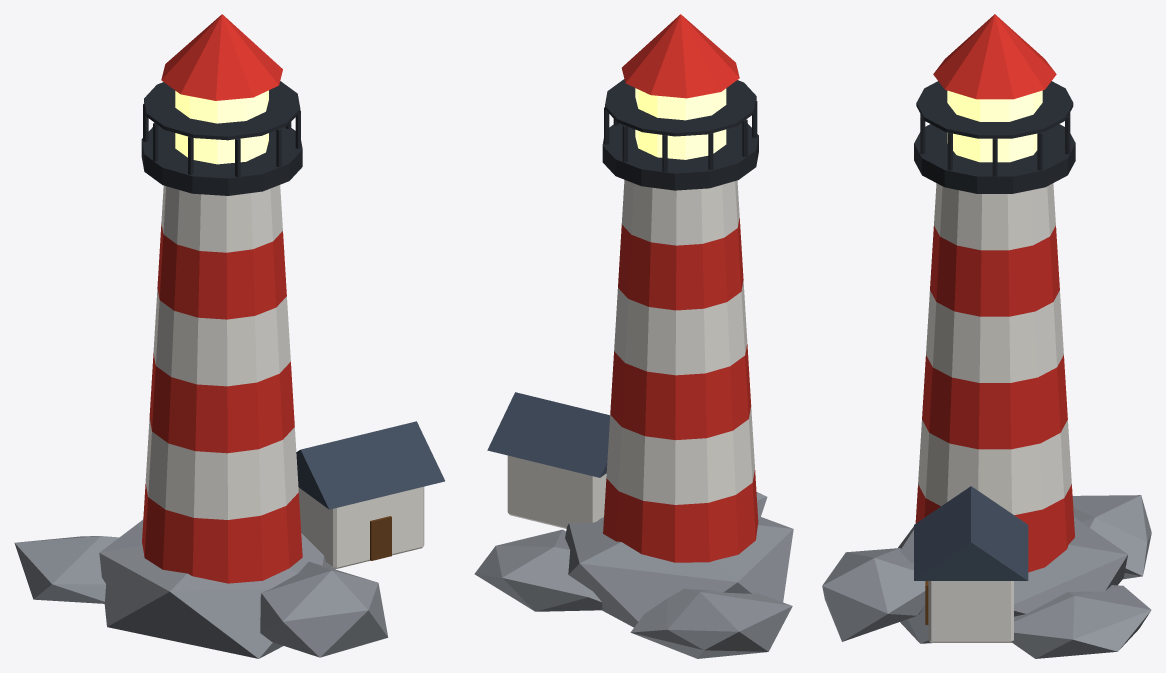
File: fe-lighthouse-YUP3os9L.glb
3 renders of one model, left to right at view 1: azimuth 30°, elevation 25°; view 2: azimuth 150°, elevation 25°; view 3: azimuth 270°, elevation 25°, orthographic. The views are drawn at different scales.
Parts seen in each view (by area): view 1: Icosphere; view 2: Icosphere; view 3: Icosphere.
Boxes of the visible parts, left/top/right/bottom form: Icosphere: left=14, top=14, right=444, bottom=658; Icosphere: left=474, top=14, right=793, bottom=658; Icosphere: left=822, top=14, right=1151, bottom=658.
Size of the model in its own units: 0.7841 by 1.44 by 0.6929.
